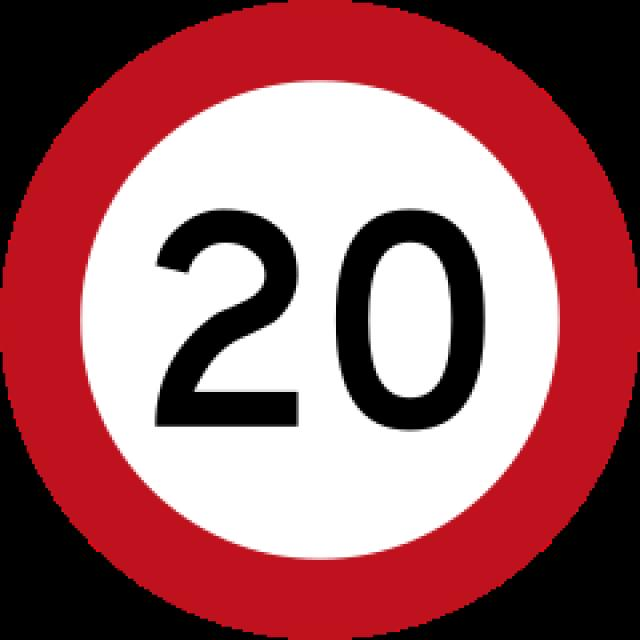Speed Limit -20-: (149, 208, 487, 433)
